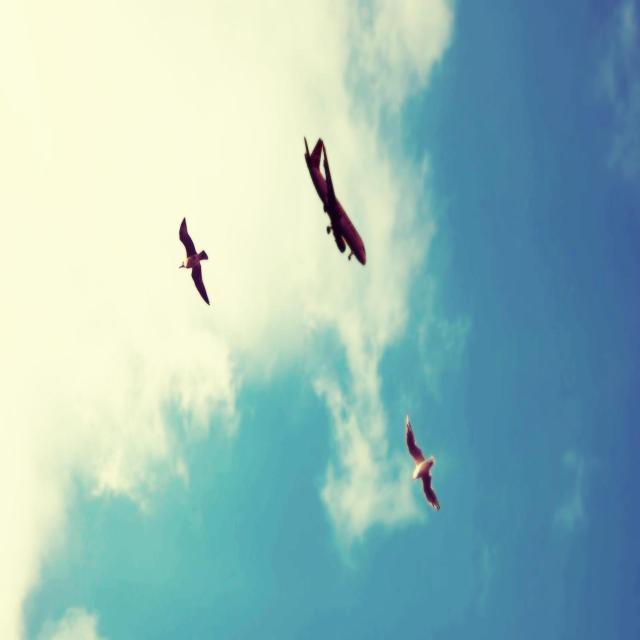airplane: (303, 135, 366, 266)
